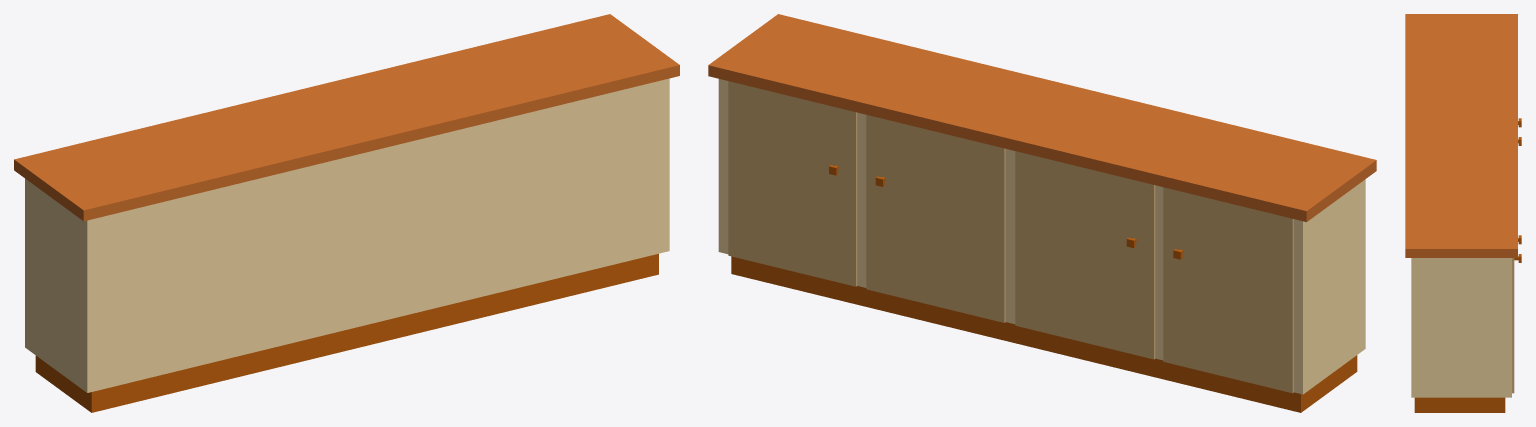
Rendered from C_Reception.fbx.
3 views of the same model, side by side, from view 1: azimuth 30°, elevation 25°; view 2: azimuth 150°, elevation 25°; view 3: azimuth 270°, elevation 25° (orthographic). The views are drawn at different scales.
Visible parts, largest first — view 1: C_Reception; view 2: C_Reception; view 3: C_Reception.
Boxes of the visible parts, x1,y1,x2,y2 form: C_Reception: (14, 14, 679, 412); C_Reception: (708, 14, 1376, 412); C_Reception: (1405, 14, 1521, 412).
Bounding box in the file's own units: 2383 × 498 × 802.
